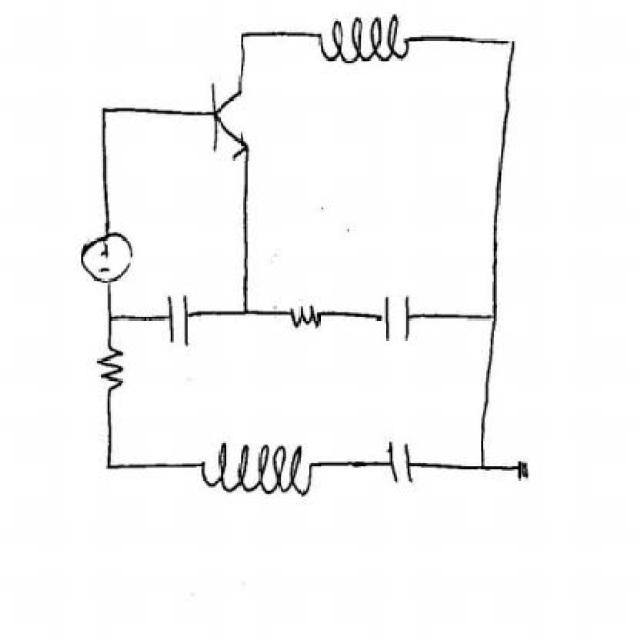capacitor: (162, 286, 196, 352), (377, 288, 415, 343), (382, 439, 420, 486)
ground: (506, 437, 534, 499)
inductor: (194, 428, 317, 500), (307, 10, 423, 69)
resistor: (92, 338, 130, 394), (284, 302, 330, 342)
transistor: (205, 74, 261, 168)
voltage_source: (74, 228, 140, 282)
